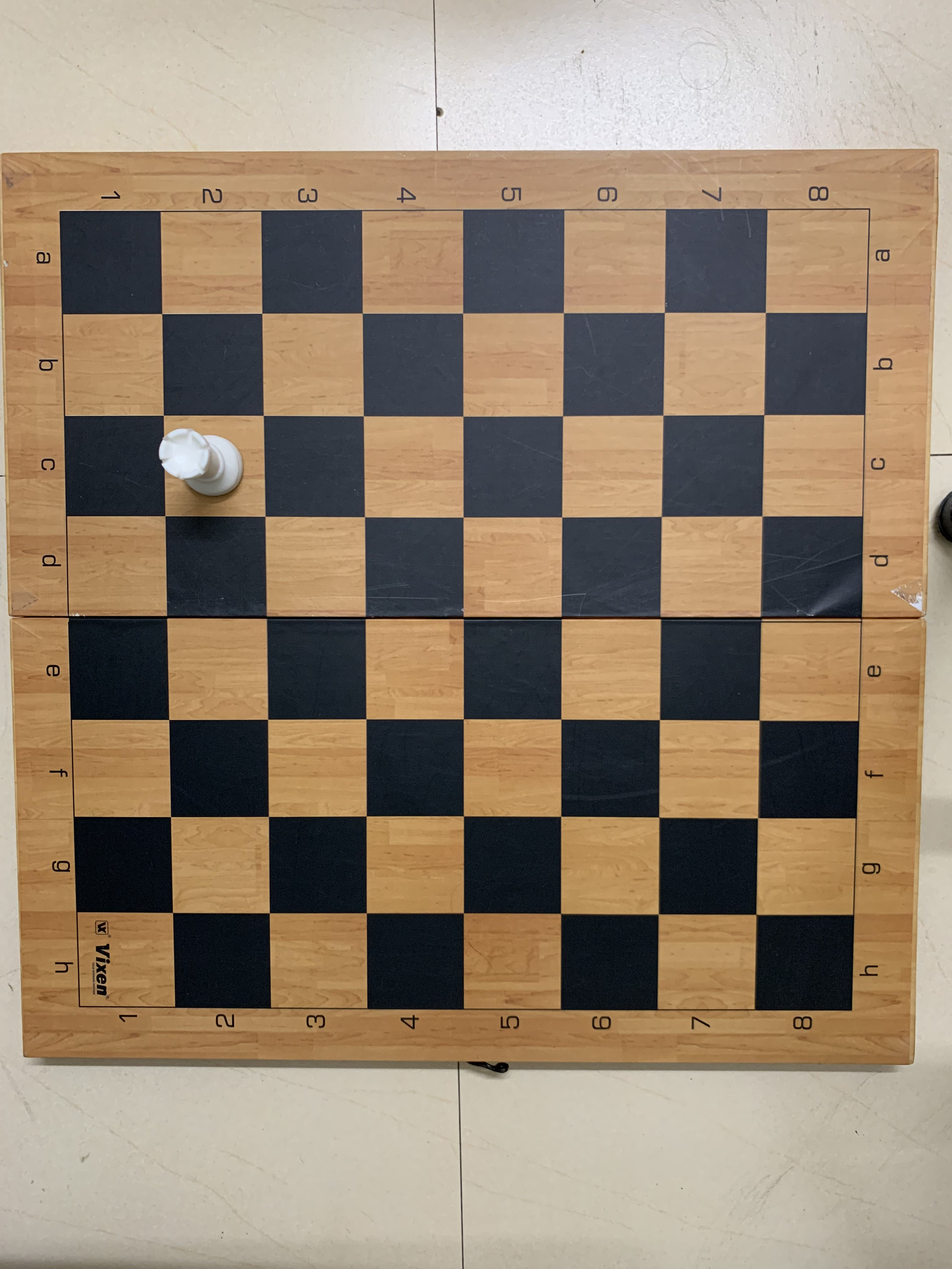white_rook: (162, 416, 268, 517)
